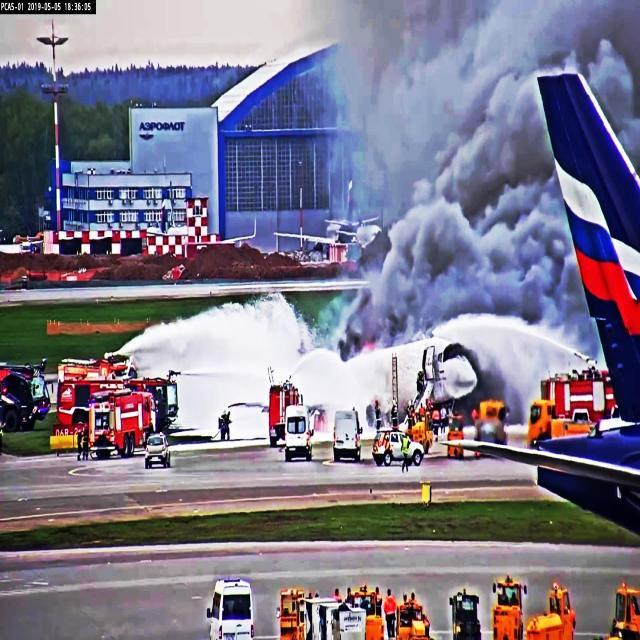Smoke: (352, 163, 604, 364), (347, 0, 640, 168)
